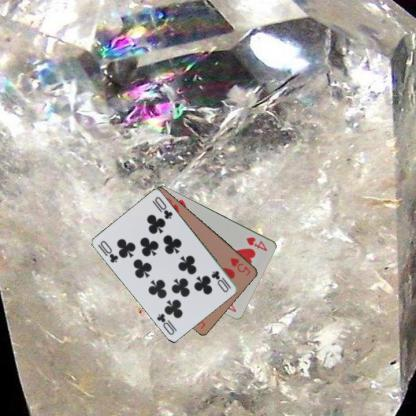10c: (209, 268, 232, 294), (98, 238, 120, 264)
4h: (244, 234, 268, 252)
5h: (228, 254, 252, 277)
